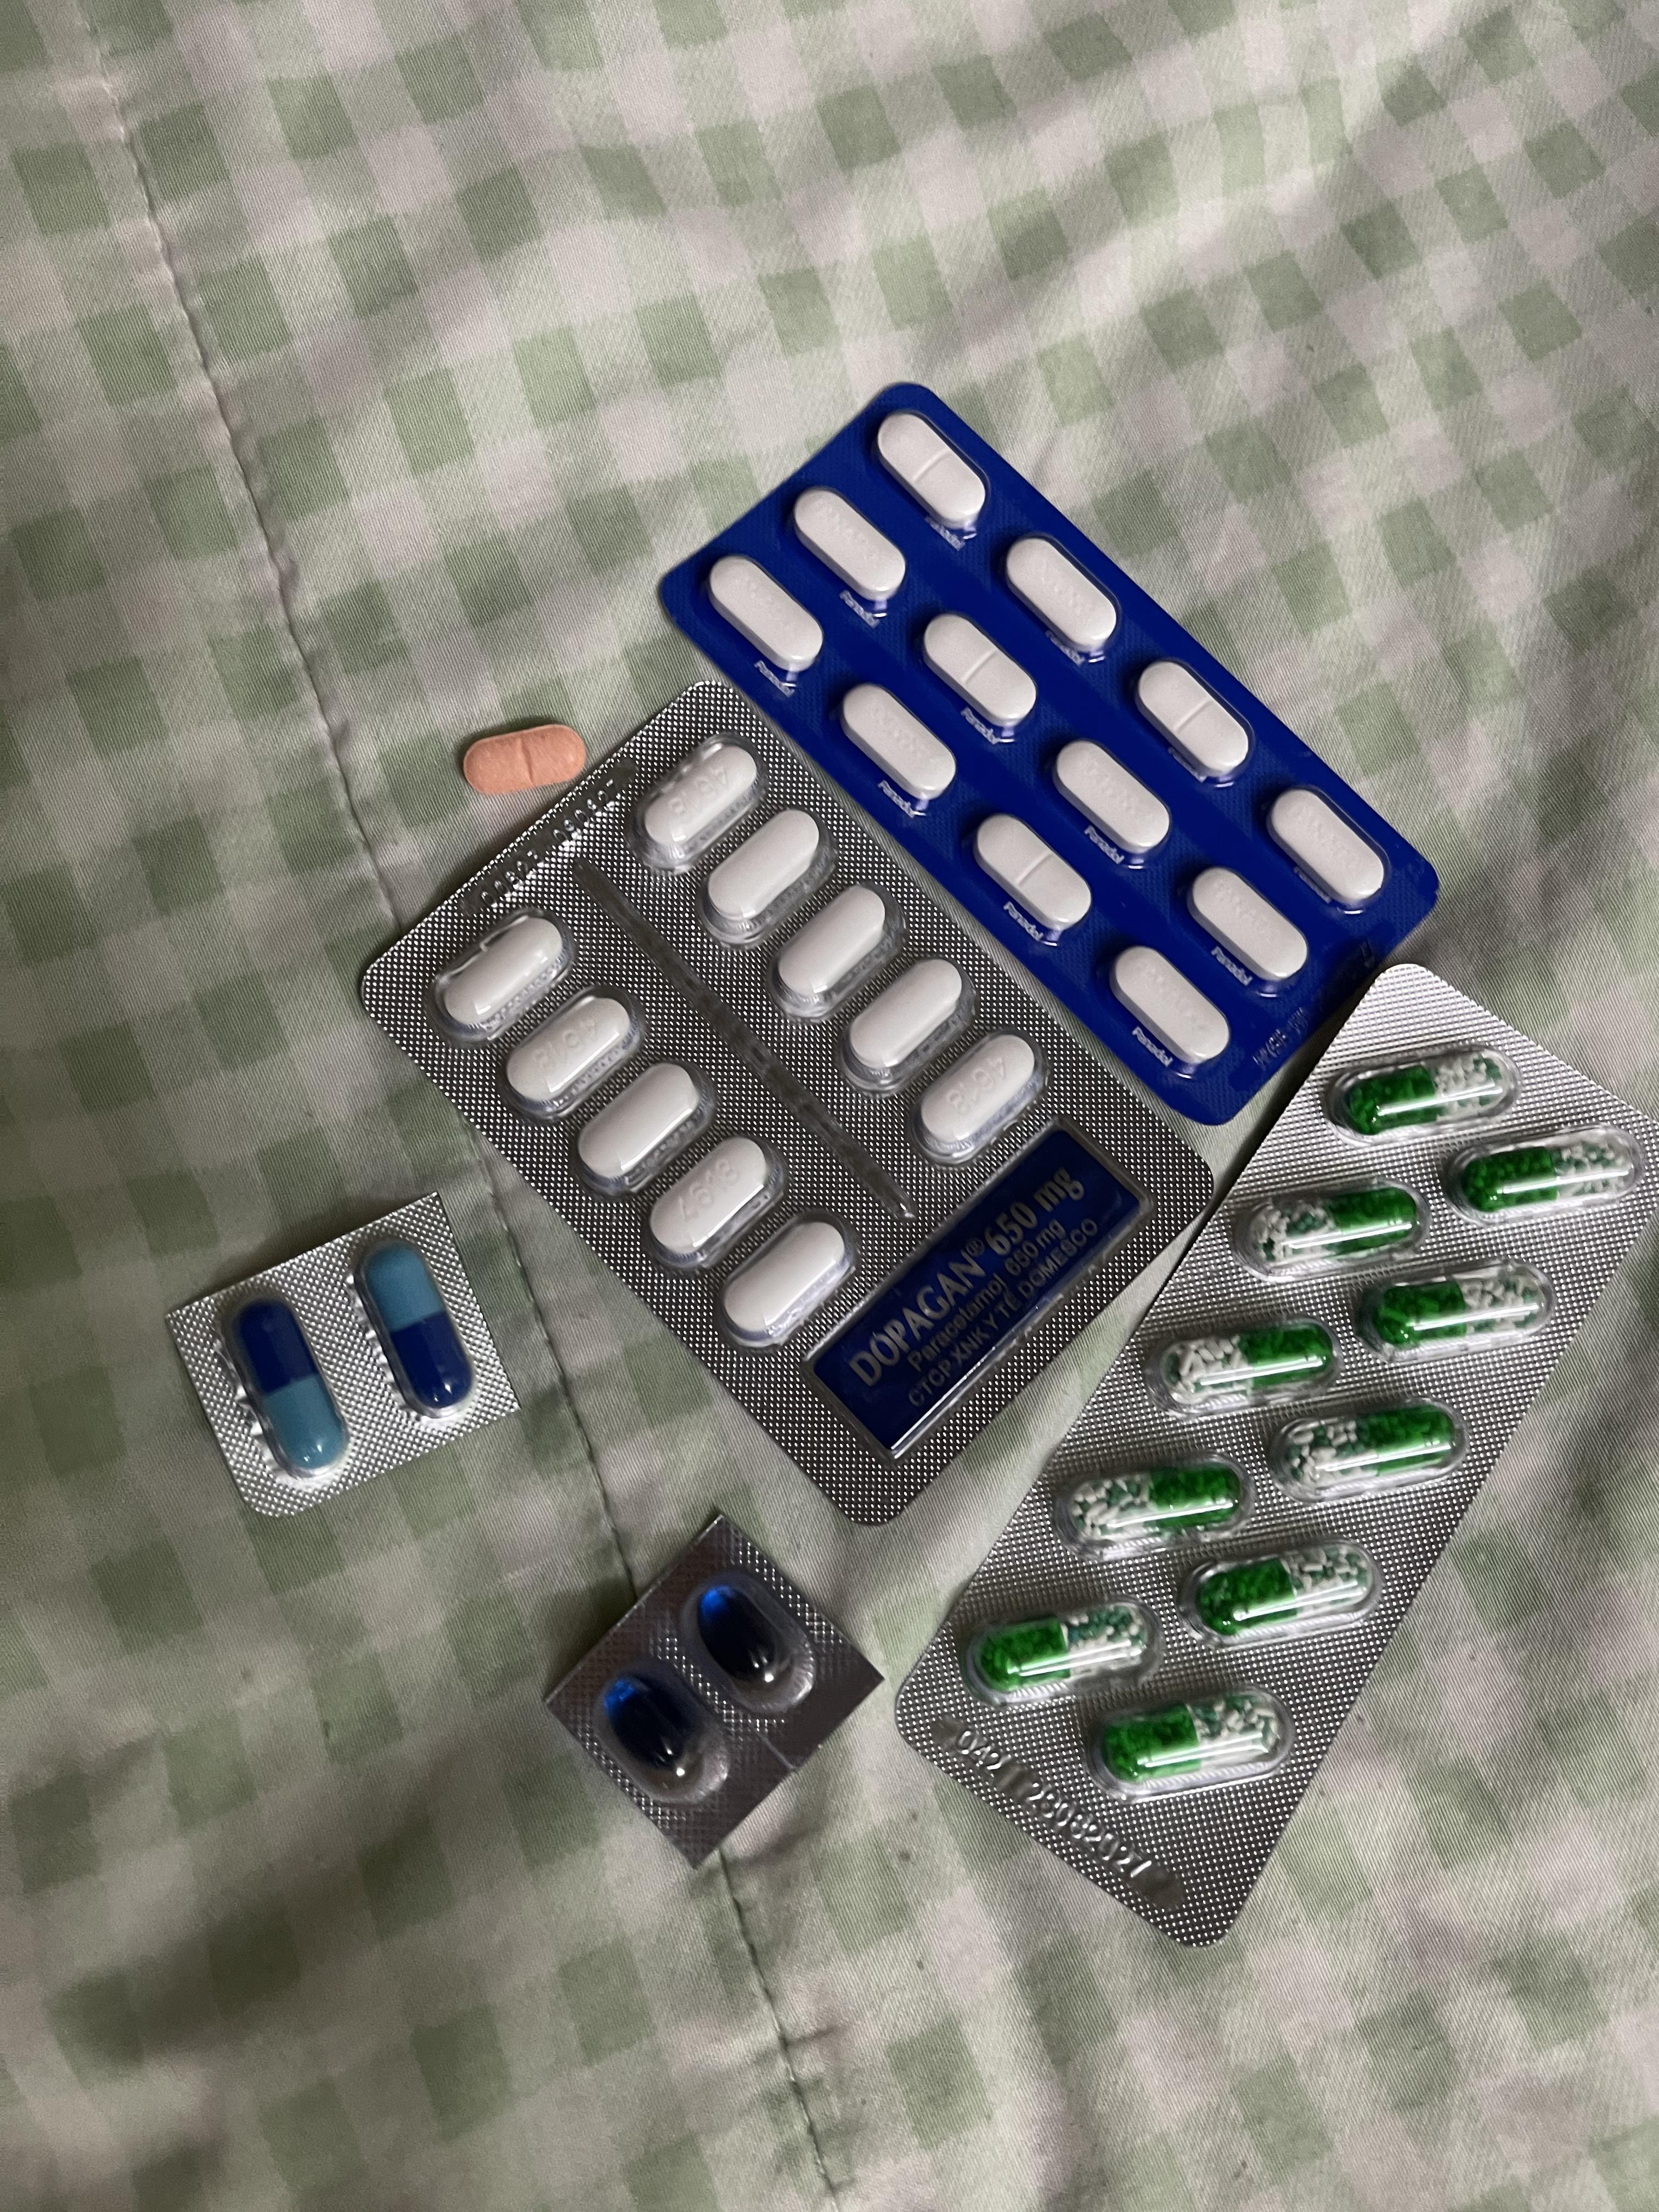Lincomyxin_500mg: (606, 1673, 708, 1781), (697, 1582, 790, 1684)
Loratadine_10mg: (463, 725, 588, 800)
Paracetamol_350mg: (972, 814, 1093, 945), (1267, 788, 1391, 912), (707, 557, 824, 685), (841, 685, 957, 814), (1135, 660, 1255, 785), (1185, 867, 1310, 985), (1005, 537, 1120, 663), (1111, 947, 1231, 1069), (922, 616, 1038, 738), (1053, 740, 1170, 859), (793, 489, 907, 611), (878, 411, 989, 527)
Paracetamol_500mg: (430, 912, 570, 1047), (575, 1060, 714, 1195), (907, 1024, 1041, 1160), (504, 990, 640, 1119), (843, 955, 972, 1084), (718, 1215, 849, 1342), (640, 738, 759, 863), (647, 1136, 766, 1252), (706, 808, 819, 923), (777, 885, 885, 993)
Paracetamol_650mg: (1092, 1687, 1289, 1795), (1354, 1259, 1558, 1363), (1237, 1178, 1431, 1276), (1192, 1547, 1378, 1641), (972, 1598, 1153, 1685), (1455, 1137, 1643, 1216), (1281, 1408, 1452, 1488), (1162, 1327, 1331, 1402), (1069, 1468, 1244, 1539), (1344, 1054, 1506, 1124)
pill: (219, 1293, 356, 1487), (352, 1239, 482, 1426)
